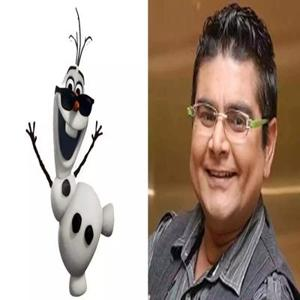olaf: (24, 7, 116, 297)
